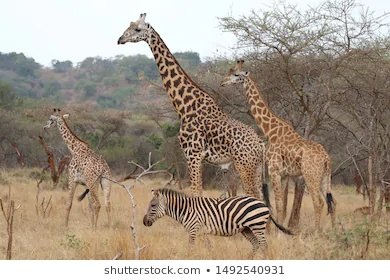giraffe: (114, 8, 280, 246), (218, 60, 343, 239), (41, 107, 117, 234)
zebra: (140, 185, 276, 260)
